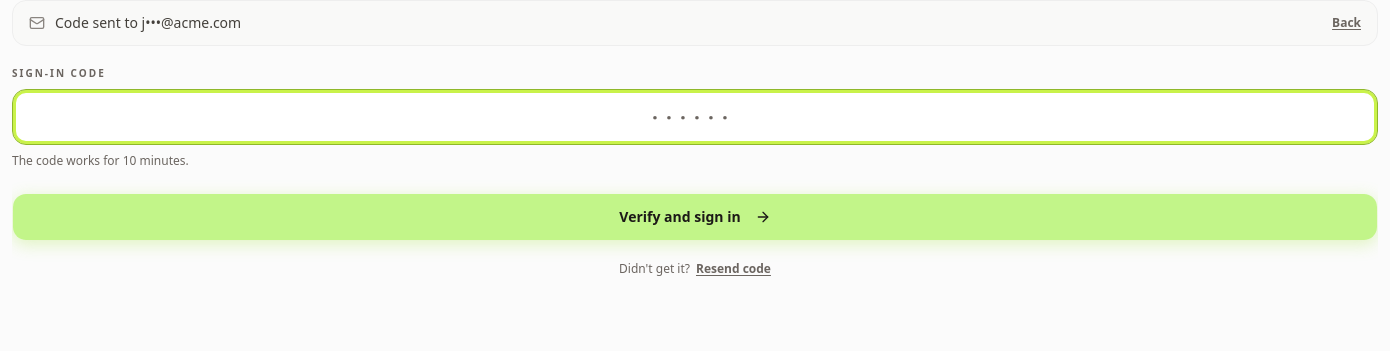
CodeStep › shows the server message when the response carries no session
Type "042917" into the field labelled "Sign-in code" at (695, 117), box [12,89,1378,145]
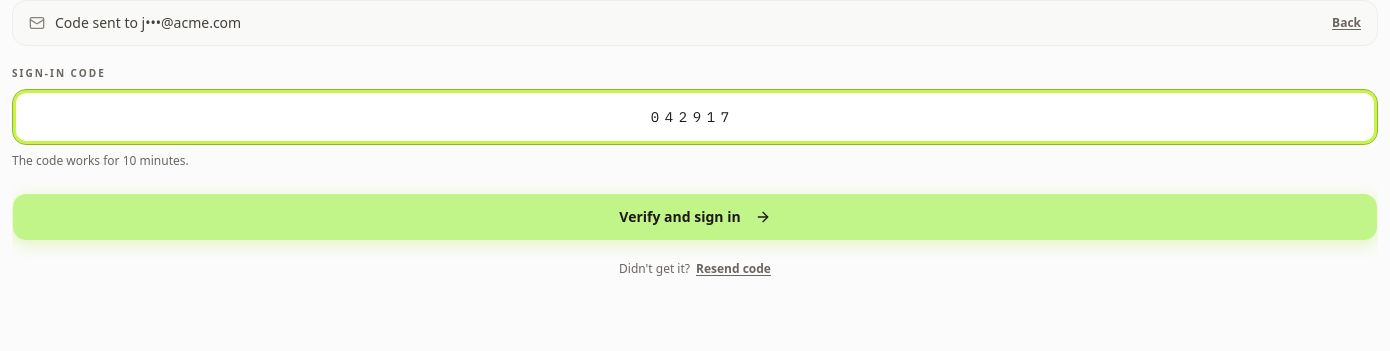
Click the button with aria-label "Verify code" at (695, 217), box [12,193,1378,241]
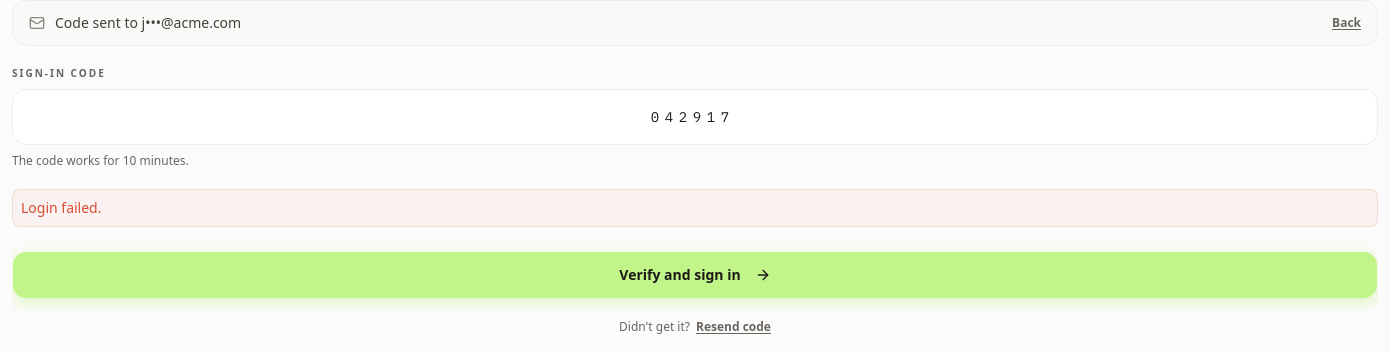
Result: the text "Login failed." is shown at [12,189,1378,227]
